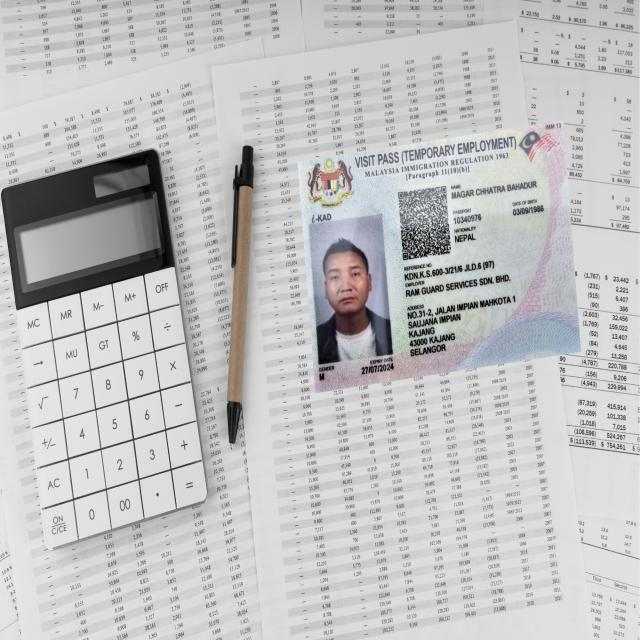ikad-temp: (294, 118, 584, 397)
